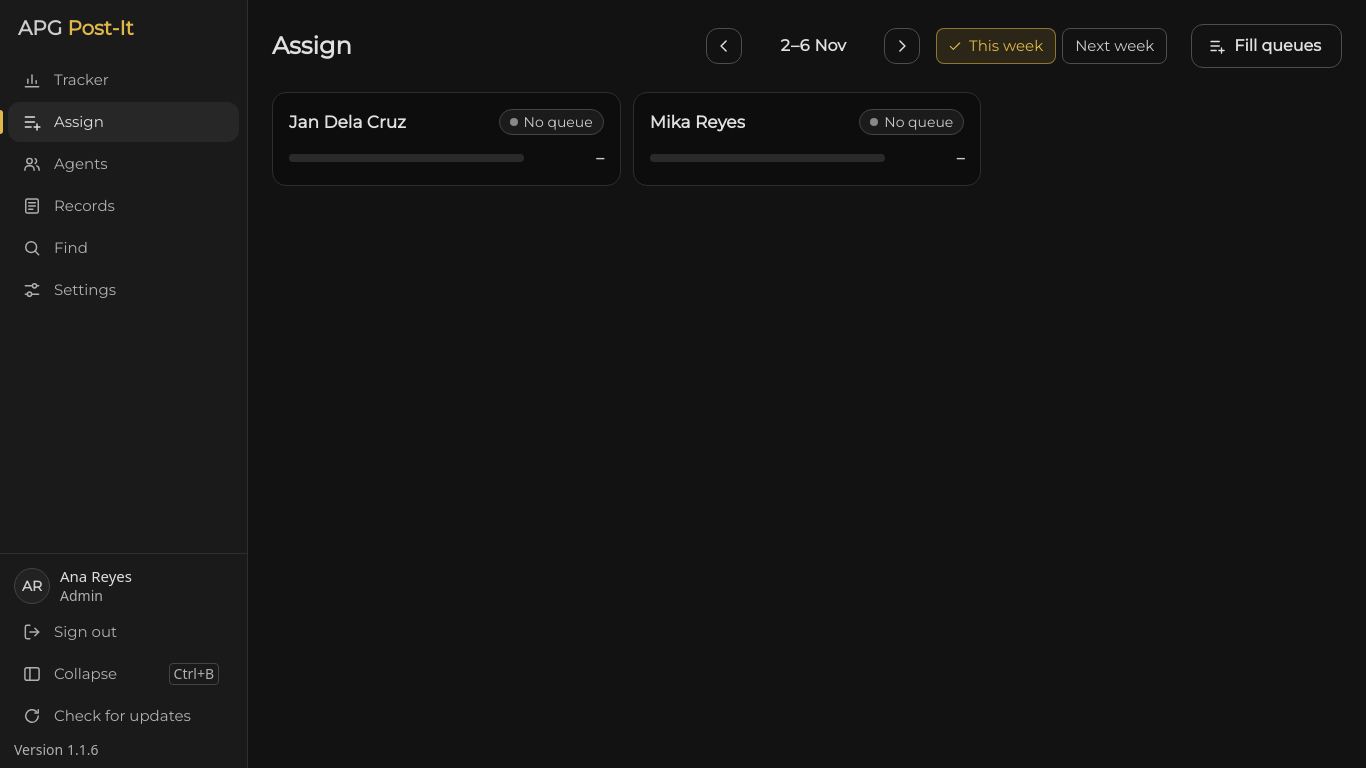
Test: Assign → Fill queues › says how short the plan fell
Click the button "Fill queues" at (1267, 46), box [1191,24,1342,68]
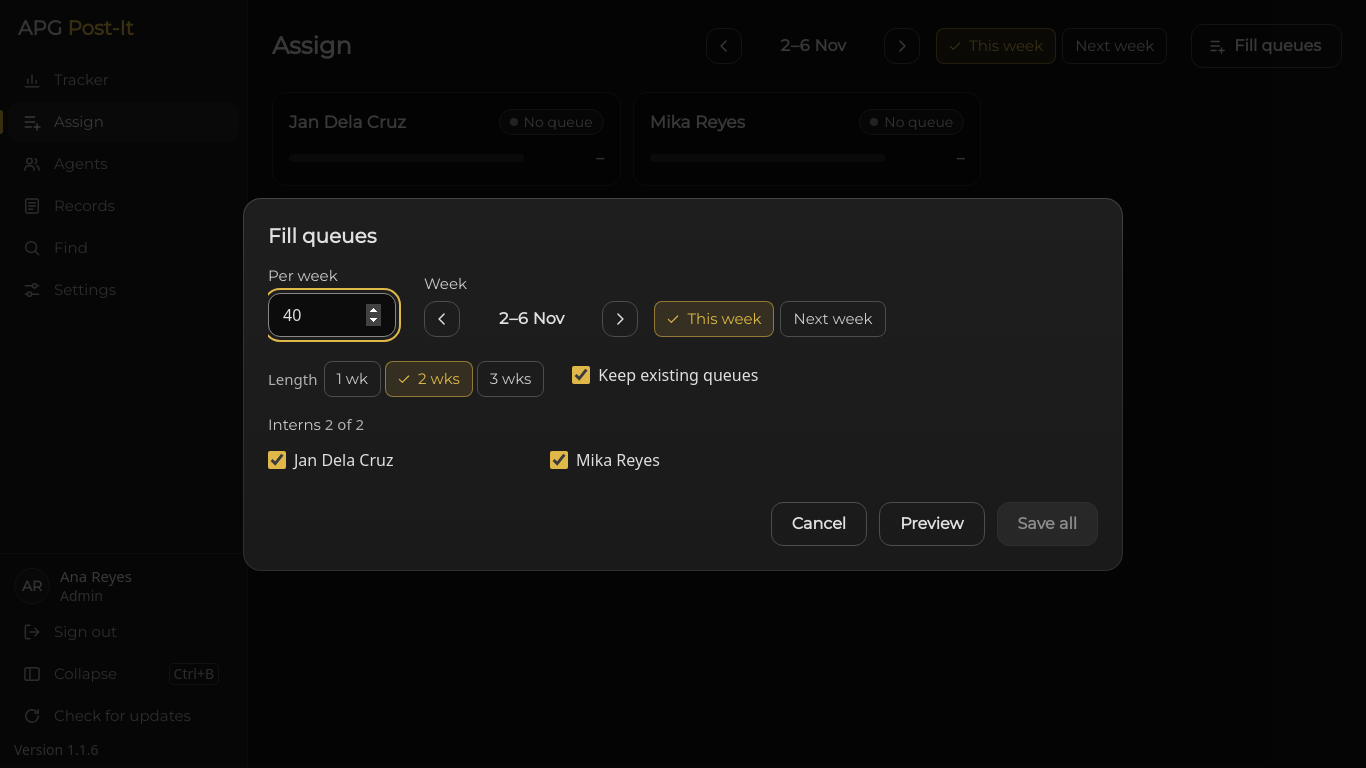
Result: the number of checkboxes is 3 at [572,366,590,384]; [268,450,286,468]; [550,450,568,468]
Click the button "Preview" at (932, 524), box [879,502,984,546]
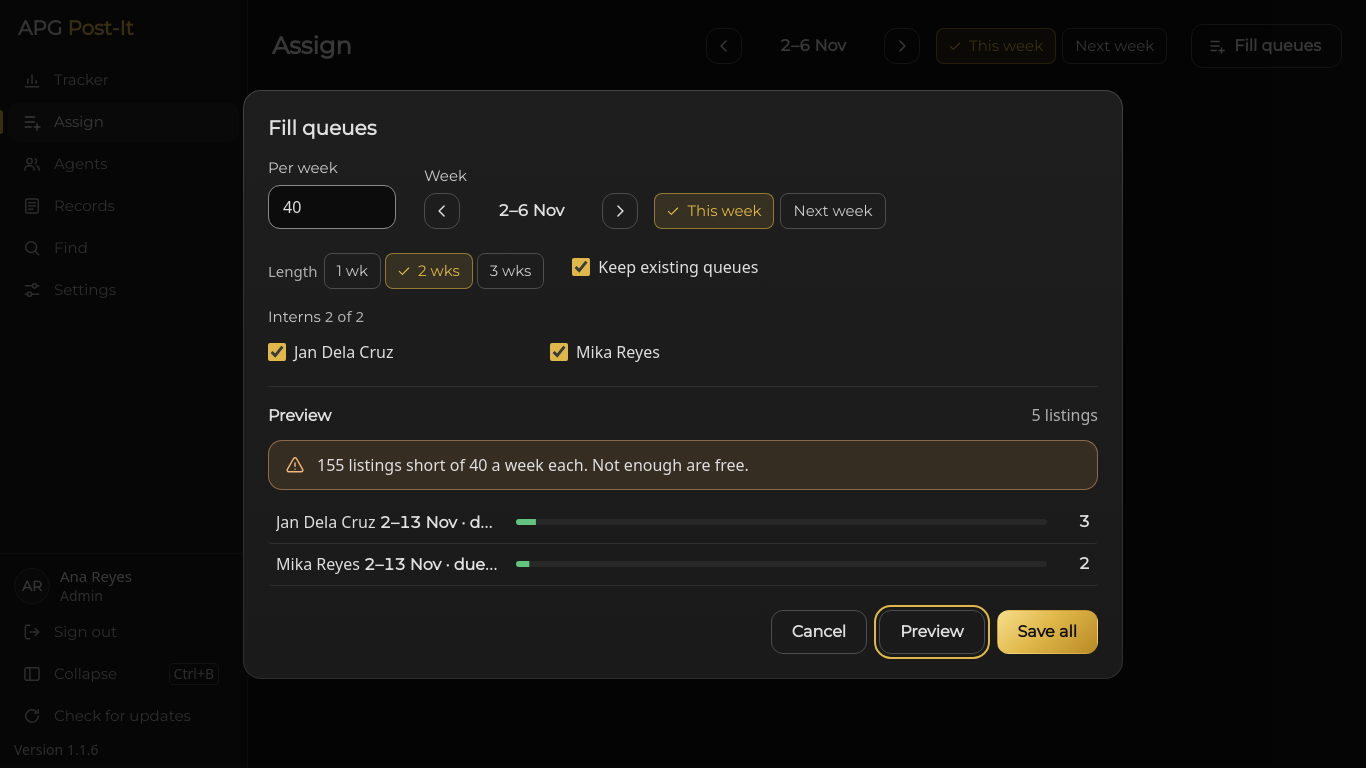
Result: the text "155 listings short of 40 a week each. Not enough are free." is shown at [317,454,749,476]
